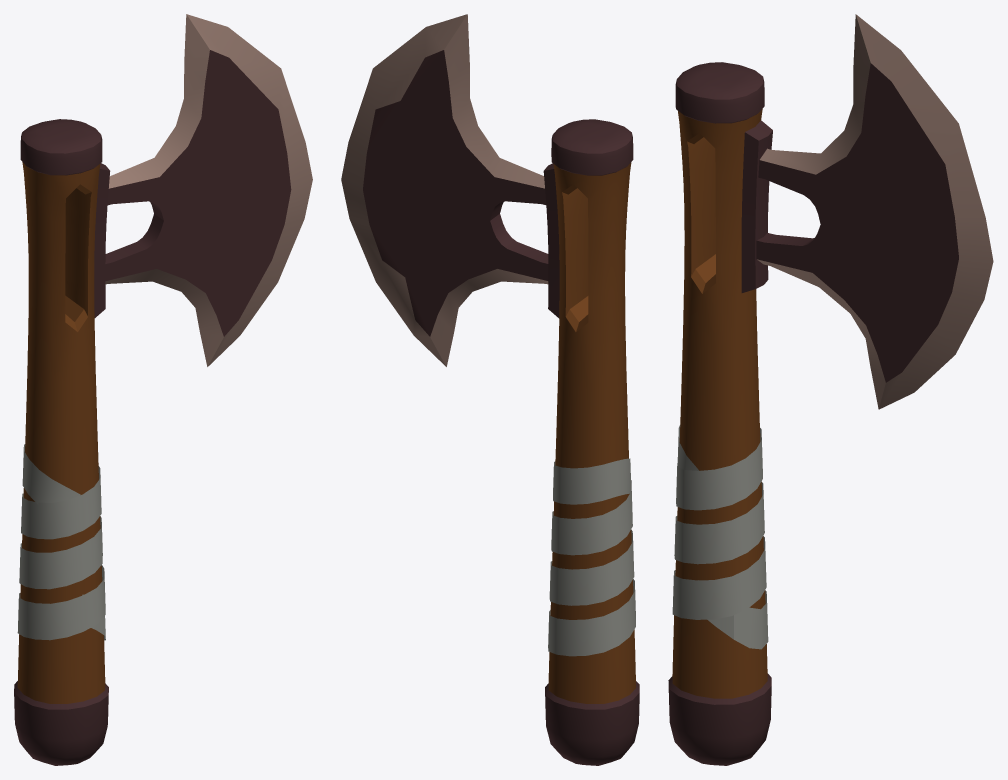
Rendered from quaternius-pirate-weapon-axe.glb.
3 views of the same model, side by side, from view 1: azimuth 30°, elevation 25°; view 2: azimuth 150°, elevation 25°; view 3: azimuth 330°, elevation 25° (orthographic). The views are drawn at different scales.
Parts seen in each view (by area): view 1: Weapon_Axe; view 2: Weapon_Axe; view 3: Weapon_Axe.
Boxes of the visible parts, x1=… form: Weapon_Axe: x1=14, y1=14, x2=312, y2=765; Weapon_Axe: x1=341, y1=14, x2=639, y2=765; Weapon_Axe: x1=668, y1=14, x2=993, y2=765.
Size of the model in its own units: 0.4467 by 1.05 by 0.1247.
Materials: 1 (1 with a texture image).
